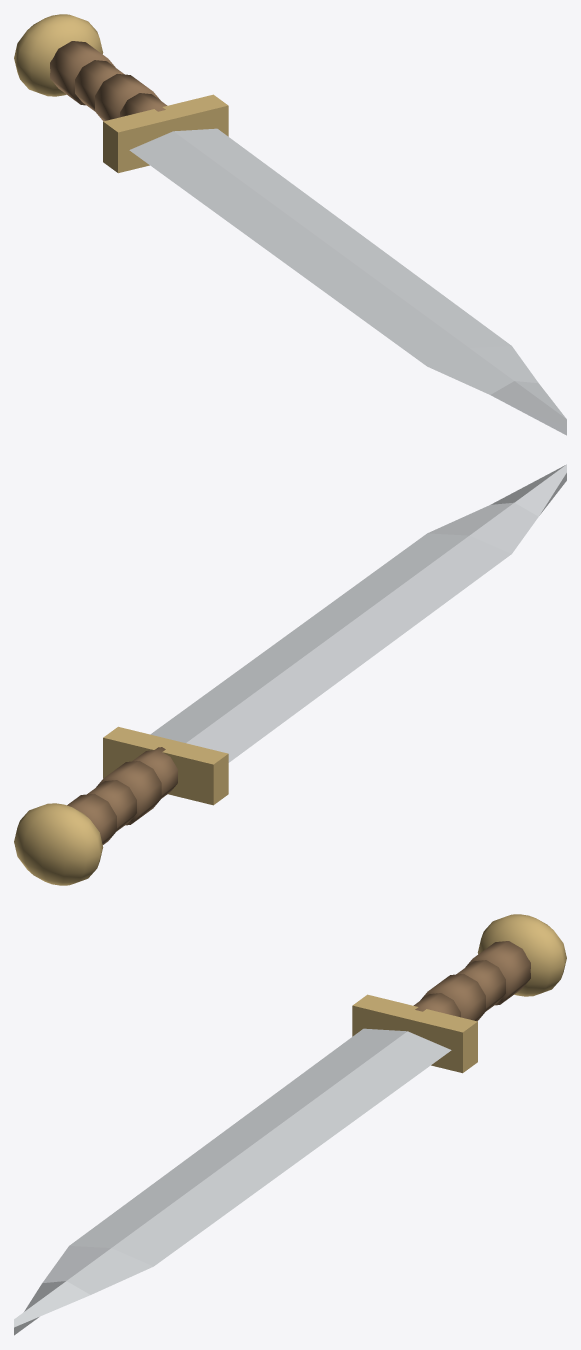
The model's file is gladius_titus.glb.
The picture shows the model from 3 angles, top to bottom: view 1: azimuth 30°, elevation 25°; view 2: azimuth 150°, elevation 25°; view 3: azimuth 330°, elevation 25°; orthographic projection.
Visible parts, largest first — view 1: blade, guard, pommel, grip_3, grip_1, grip_2, grip_0; view 2: blade, pommel, guard, grip_1, grip_3, grip_2, grip_0; view 3: blade, guard, pommel, grip_3, grip_1, grip_2, grip_0.
Boxes of the visible parts, <box> form: blade: <box>129,128,566,435</box>; guard: <box>103,94,228,173</box>; pommel: <box>14,14,103,96</box>; grip_3: <box>50,41,115,105</box>; grip_1: <box>95,74,160,121</box>; grip_2: <box>75,60,124,111</box>; grip_0: <box>120,93,167,117</box>; blade: <box>150,464,566,762</box>; pommel: <box>14,803,103,885</box>; guard: <box>103,726,228,805</box>; grip_1: <box>96,761,161,825</box>; grip_3: <box>67,793,116,844</box>; grip_2: <box>87,780,136,830</box>; grip_0: <box>132,747,177,798</box>; blade: <box>14,1028,451,1335</box>; guard: <box>352,994,477,1073</box>; pommel: <box>477,914,566,996</box>; grip_3: <box>465,941,530,1005</box>; grip_1: <box>420,974,485,1021</box>; grip_2: <box>456,960,505,1011</box>; grip_0: <box>413,993,460,1017</box>.
Bounding box in the file's own units: 0.085 × 0.056 × 0.7004.
